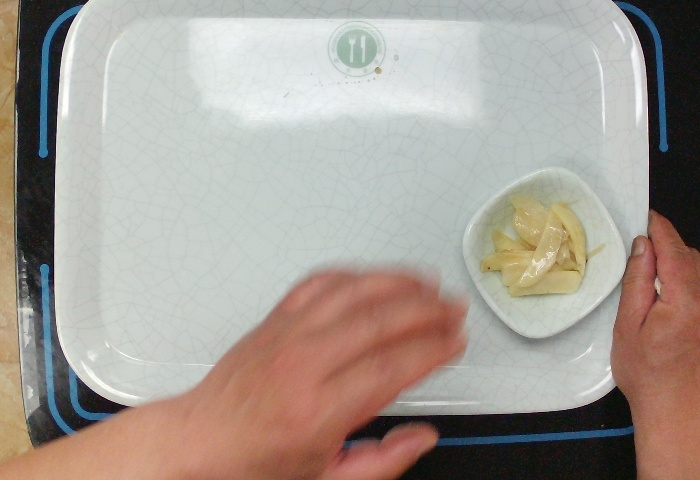JYsf-Si_Fang_Die: (459, 162, 632, 343)
